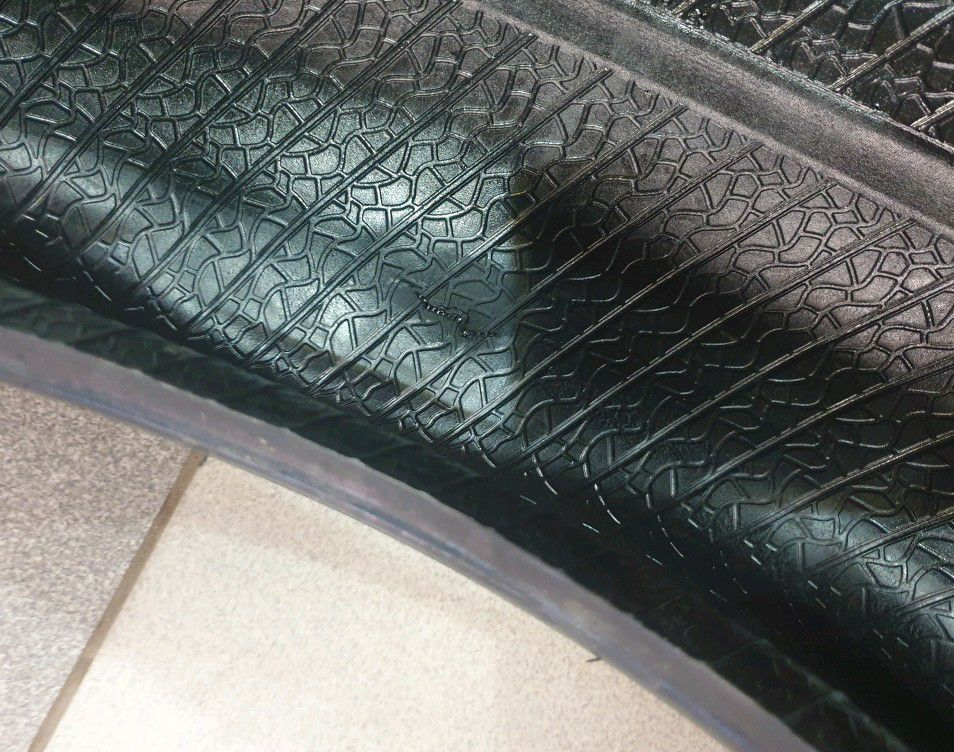CBU: (381, 269, 524, 363)
